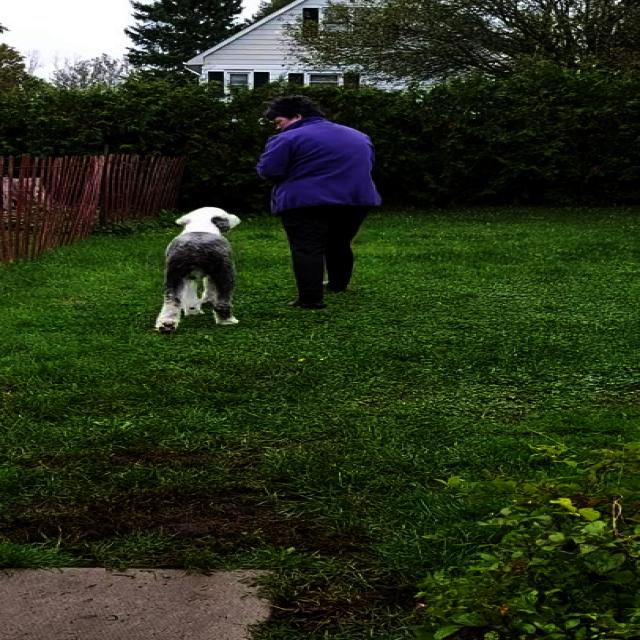Unleashed_Dog: (153, 205, 345, 334)
